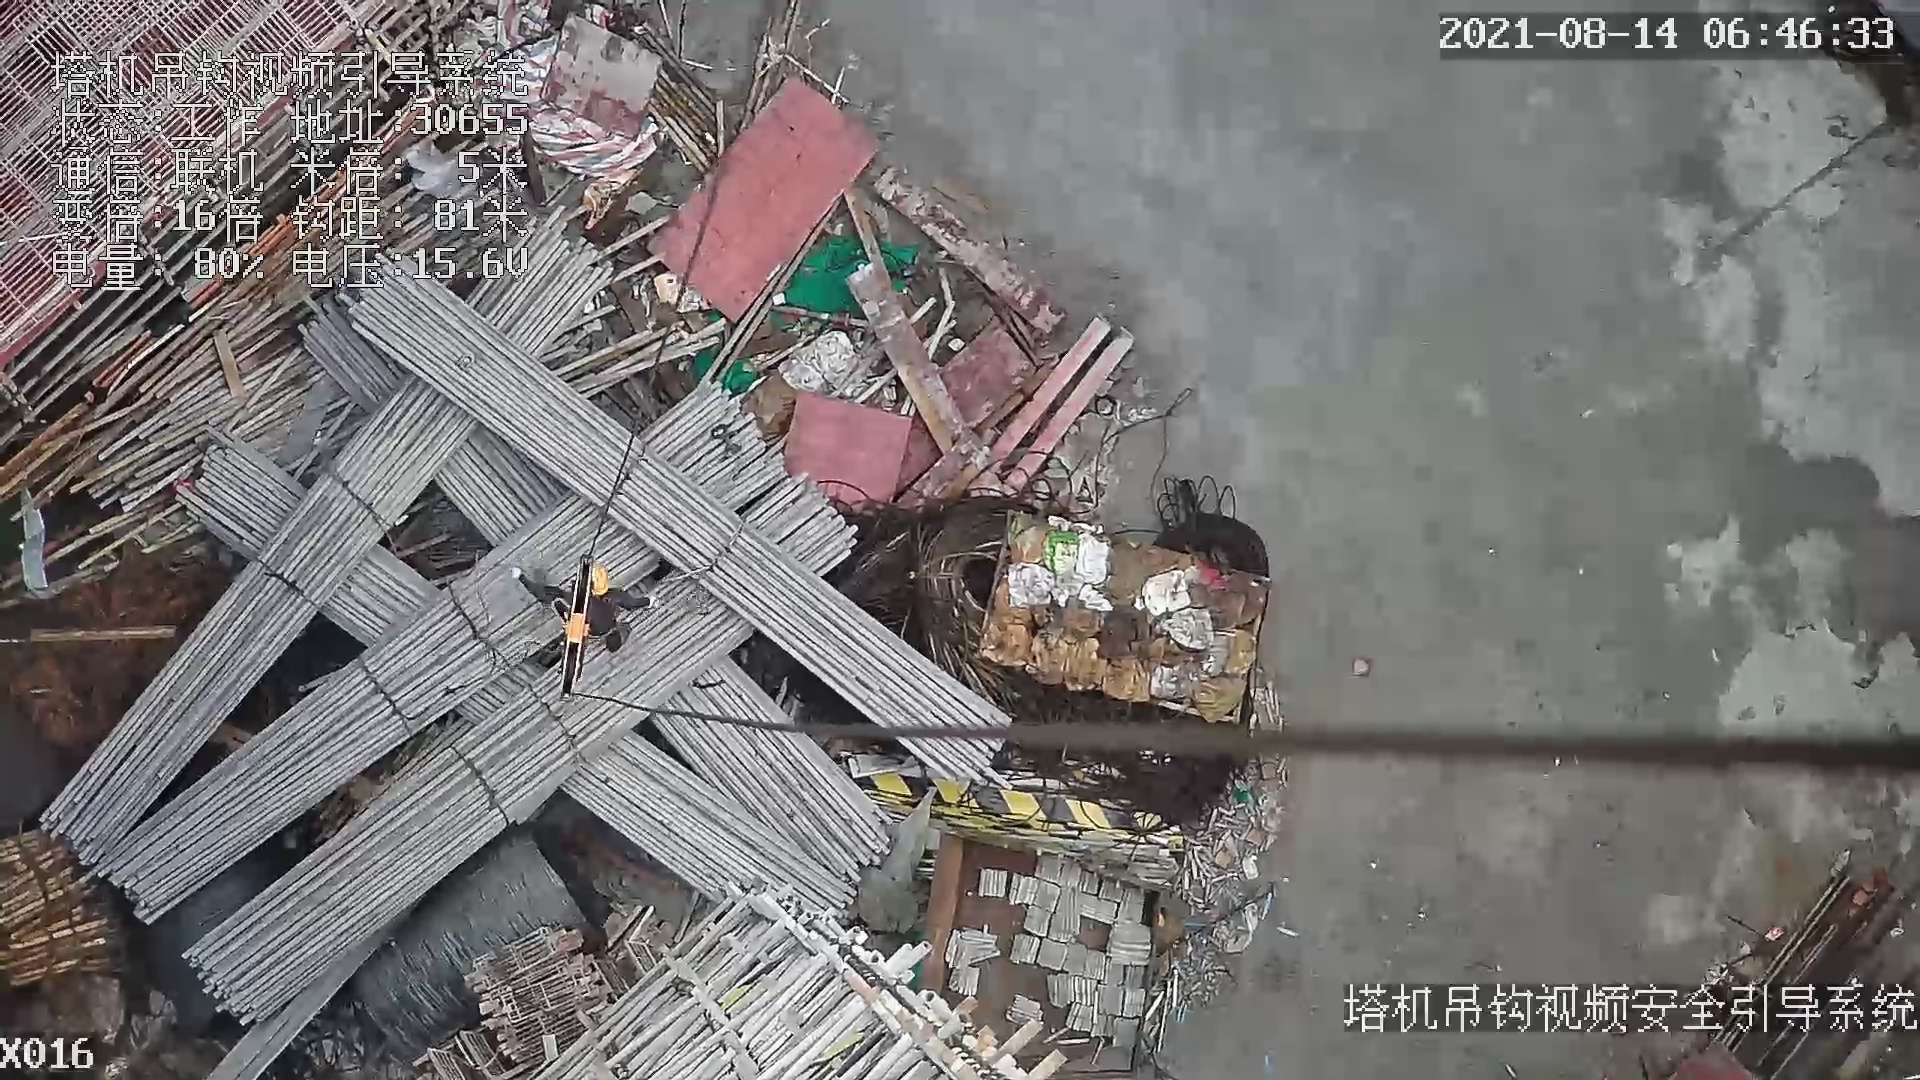board: (649, 78, 863, 320)
helmet: (582, 568, 611, 600)
hook: (551, 556, 582, 703)
person: (515, 558, 653, 645)
scaffold: (1, 828, 114, 997)
